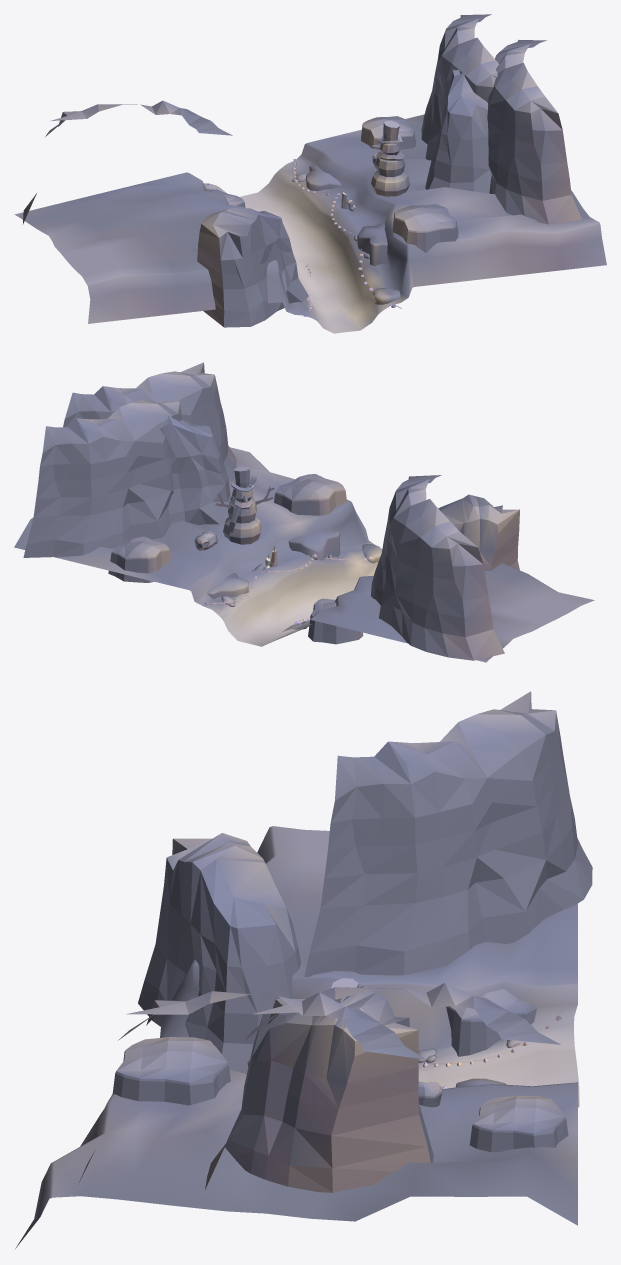
Rendered from Arctic_Luge_Curve_Right_15_A.glb.
3 renders of one model, top to bottom at view 1: azimuth 30°, elevation 25°; view 2: azimuth 150°, elevation 25°; view 3: azimuth 270°, elevation 25°, orthographic. The views are drawn at different scales.
Parts seen in each view (by area): view 1: Arctic_Luge_Curve_Right_15_A, Arctic_Luge_IceWall_prop (2), Arctic_Luge_LargeIceRock_prop (1), Arctic_Luge_LargeIceRock_prop, Arctic_Luge_IceWall_prop (1), Arctic_Luge_SmallIceRock_prop (2), Arctic_Luge_IceWall_prop, Arctic_Snowman_01_holiday, Arctic_Luge_SmallIceRock_prop; view 2: Arctic_Luge_Curve_Right_15_A, Arctic_Luge_IceWall_prop (1), Arctic_Luge_IceWall_prop, Arctic_Luge_IceWall_prop (2), Arctic_Luge_LargeIceRock_prop, Arctic_Luge_LargeIceRock_prop (1), Arctic_Luge_SmallIceRock_prop (2), Arctic_Luge_SmallIceRock_prop, Arctic_Snowman_01_holiday, Arctic_Luge_SmallIceRock_prop (1), Arctic_SnowmanHat_02_holiday; view 3: Arctic_Luge_Curve_Right_15_A, Arctic_Luge_IceWall_prop, Arctic_Luge_LargeIceRock_prop, Arctic_Luge_LargeIceRock_prop (1), Arctic_Luge_SmallIceRock_prop (2), Arctic_Luge_SmallIceRock_prop, Arctic_Luge_IceWall_prop (2), Arctic_Luge_IceWall_prop (1), Arctic_Luge_SmallIceRock_prop (1).
Part boxes in pixels (x1,y1,x2,y2): Arctic_Luge_Curve_Right_15_A: (14,114,606,333); Arctic_Luge_IceWall_prop (2): (487,39,581,224); Arctic_Luge_LargeIceRock_prop (1): (197,208,308,327); Arctic_Luge_LargeIceRock_prop: (425,69,491,193); Arctic_Luge_IceWall_prop (1): (421,14,498,160); Arctic_Luge_SmallIceRock_prop (2): (392,204,458,252); Arctic_Luge_IceWall_prop: (22,100,232,224); Arctic_Snowman_01_holiday: (370,143,409,196); Arctic_Luge_SmallIceRock_prop: (361,116,415,149); Arctic_Luge_Curve_Right_15_A: (14,447,594,662); Arctic_Luge_IceWall_prop (1): (23,400,182,557); Arctic_Luge_IceWall_prop: (370,475,504,660); Arctic_Luge_IceWall_prop (2): (63,362,236,479); Arctic_Luge_LargeIceRock_prop: (160,416,231,525); Arctic_Luge_LargeIceRock_prop (1): (438,494,519,570); Arctic_Luge_SmallIceRock_prop (2): (274,474,346,515); Arctic_Luge_SmallIceRock_prop: (108,536,170,582); Arctic_Snowman_01_holiday: (215,486,274,544); Arctic_Luge_SmallIceRock_prop (1): (308,598,363,644); Arctic_SnowmanHat_02_holiday: (231,467,256,492); Arctic_Luge_Curve_Right_15_A: (15,826,579,1248); Arctic_Luge_IceWall_prop: (304,691,592,976); Arctic_Luge_LargeIceRock_prop: (225,985,433,1192); Arctic_Luge_LargeIceRock_prop (1): (138,833,301,1073); Arctic_Luge_SmallIceRock_prop (2): (112,1037,230,1105); Arctic_Luge_SmallIceRock_prop: (469,1095,568,1152); Arctic_Luge_IceWall_prop (2): (78,991,425,1184); Arctic_Luge_IceWall_prop (1): (205,983,560,1189); Arctic_Luge_SmallIceRock_prop (1): (446,988,536,1056).
Size of the model in its own units: 27.51 by 9.87 by 16.87.
